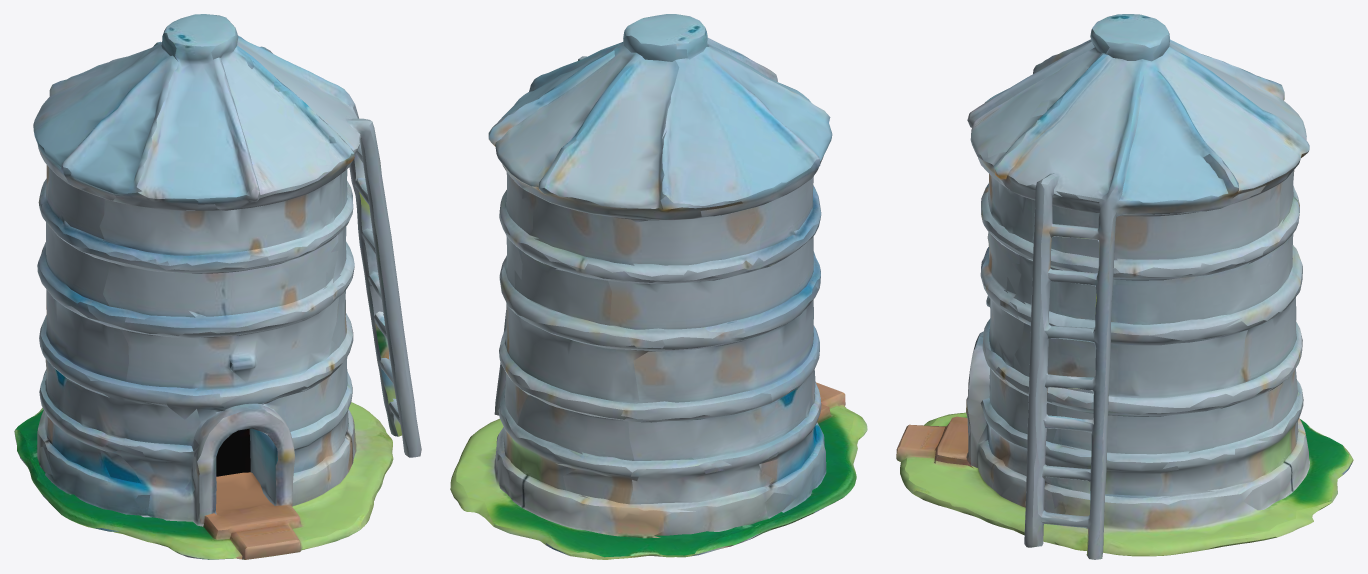
The model's file is silo.glb.
3 renders of one model, left to right at view 1: azimuth 30°, elevation 25°; view 2: azimuth 150°, elevation 25°; view 3: azimuth 270°, elevation 25°, orthographic.
Parts seen in each view (by area): view 1: silo_s15; view 2: silo_s15; view 3: silo_s15.
Part boxes in pixels (x1=…): silo_s15: x1=14, y1=14, x2=421, y2=559; silo_s15: x1=450, y1=14, x2=867, y2=559; silo_s15: x1=896, y1=14, x2=1353, y2=559.
Size of the model in its own units: 0.8256 by 1 by 0.9391.
1 material, 1 textured.
